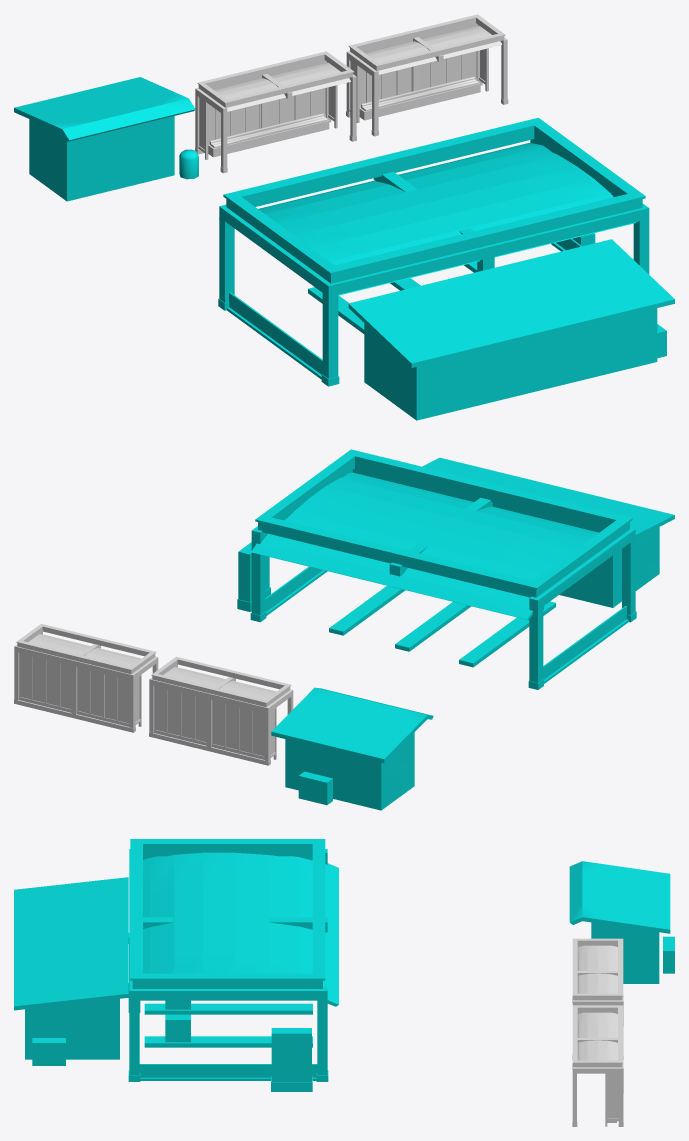
File: BusStation_Full_Subdivided.fbx
3 views of the same model, one above another, from view 1: azimuth 30°, elevation 25°; view 2: azimuth 150°, elevation 25°; view 3: azimuth 270°, elevation 25° (orthographic). The views are drawn at different scales.
Visible parts, largest first — view 1: BusStation, BusStop1, BusStop2; view 2: BusStation, BusStop1, BusStop2; view 3: BusStation, BusStop2, BusStop1.
Boxes of the visible parts, x1,y1,x2,y2 form: BusStation: (14,77,674,420); BusStop1: (195,51,356,173); BusStop2: (346,14,508,136); BusStation: (237,449,674,810); BusStop1: (149,656,293,765); BusStop2: (14,623,158,732); BusStation: (14,839,674,1091); BusStop2: (572,1005,623,1126); BusStop1: (572,938,623,1059).
Bounding box in the file's own units: 10.9 × 2.67 × 15.61.
